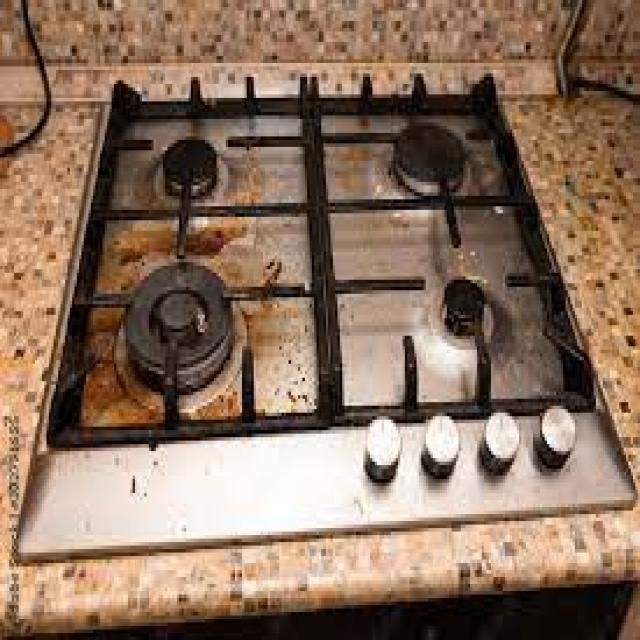knob_ON: (101, 99, 559, 411)
